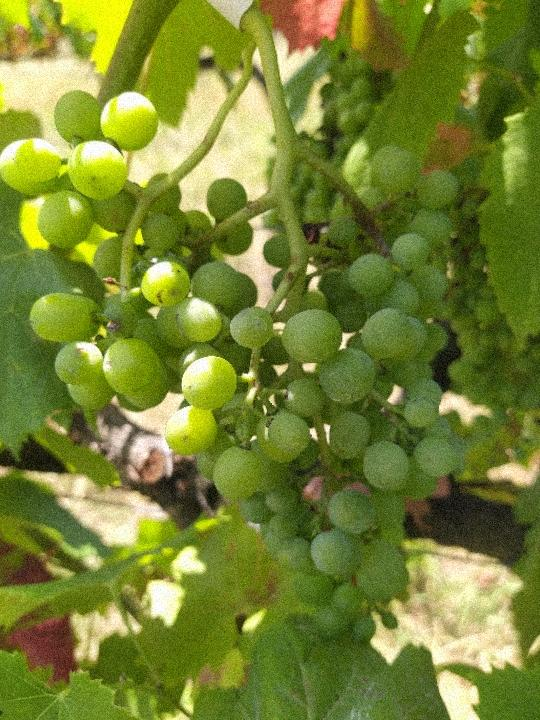grape: (0, 85, 464, 647)
